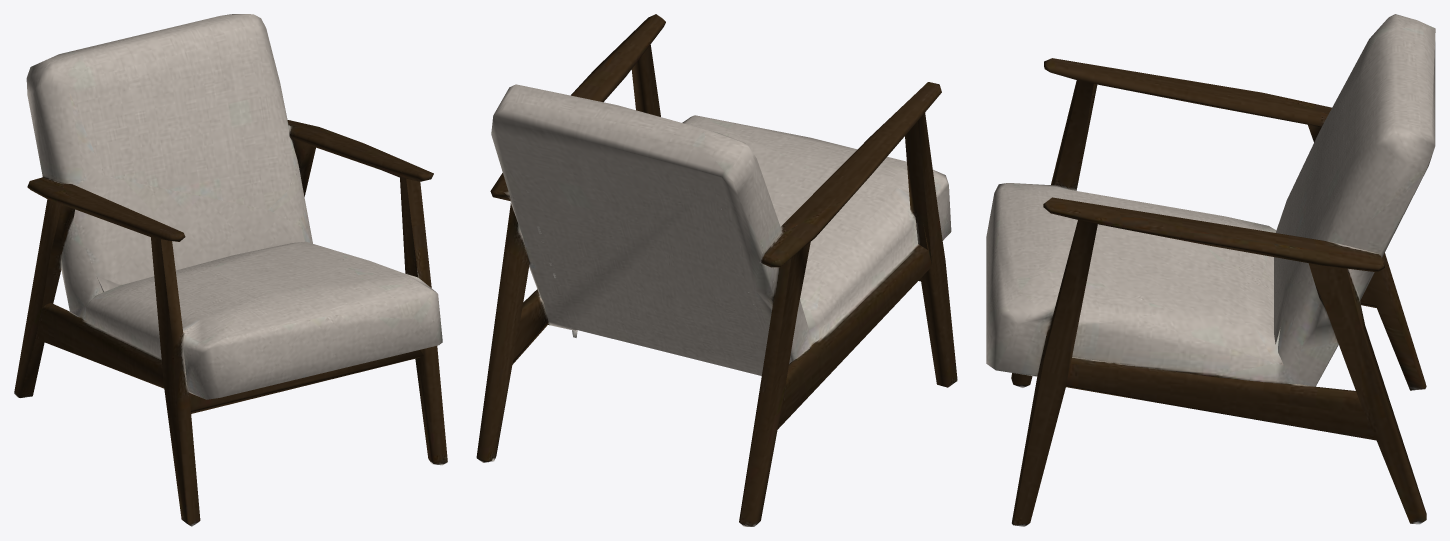
Rendered from chair.glb.
3 views of the same model, side by side, from view 1: azimuth 30°, elevation 25°; view 2: azimuth 150°, elevation 25°; view 3: azimuth 270°, elevation 25° (orthographic). The views are drawn at different scales.
Visible parts, largest first — view 1: model; view 2: model; view 3: model.
Part boxes in pixels (box(x1,y1,x2,y2)): model: box(14, 14, 447, 526); model: box(476, 14, 957, 526); model: box(986, 14, 1435, 526).
Size of the model in its own units: 0.6461 by 0.7552 by 0.7915.
Materials: 2 (2 with a texture image).
